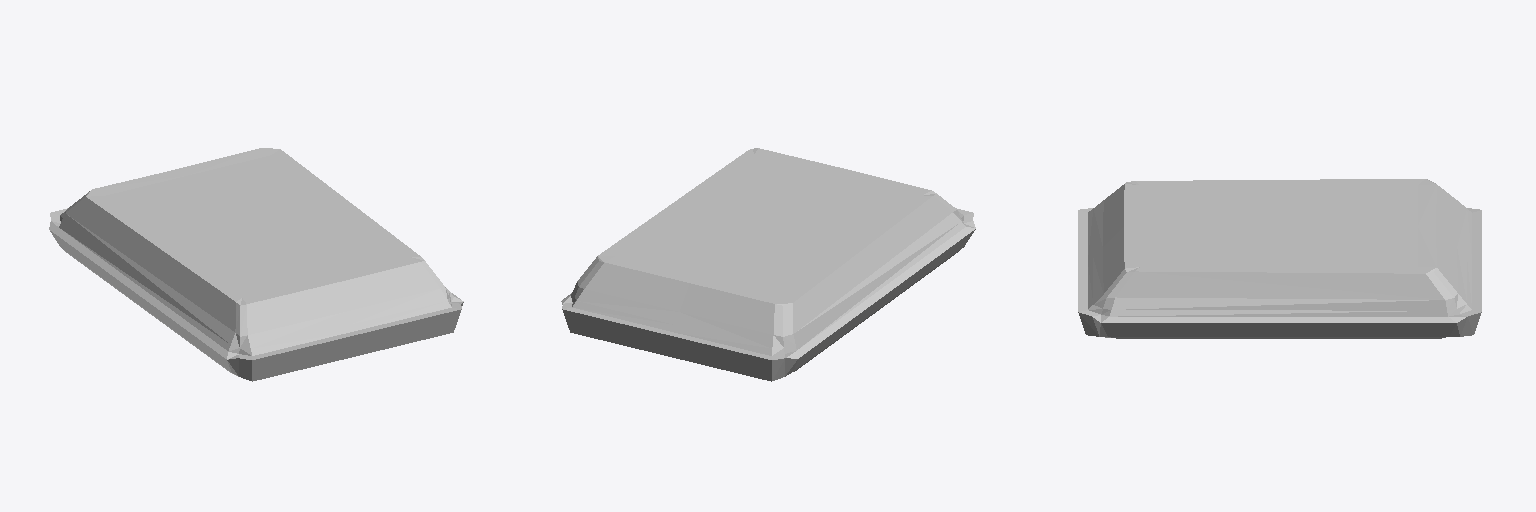
File: MSH_Joya.obj
The picture shows the model from 3 angles: view 1: azimuth 30°, elevation 25°; view 2: azimuth 150°, elevation 25°; view 3: azimuth 270°, elevation 25°; orthographic projection.
Visible parts, largest first — view 1: MSH_Joya; view 2: MSH_Joya; view 3: MSH_Joya.
Part boxes in pixels (x1,y1,x2,y2): MSH_Joya: (49,148,463,381); MSH_Joya: (561,148,975,381); MSH_Joya: (1078,179,1481,338).
Bounding box in the file's own units: 1.48 × 0.3585 × 2.18.